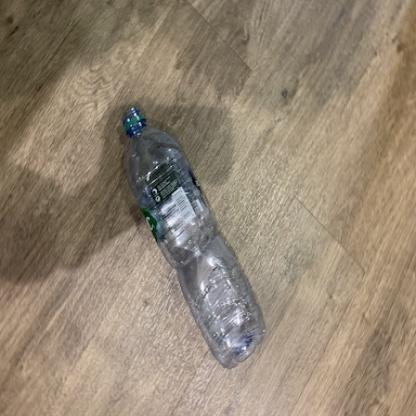trash: (116, 109, 272, 371)
